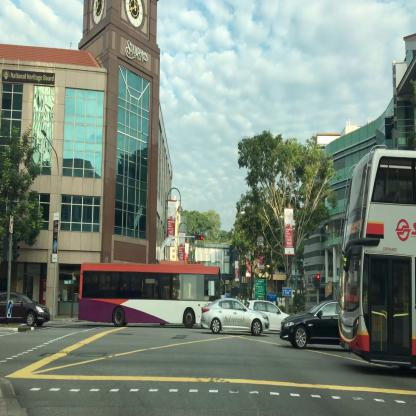red_traffic_light: (316, 274, 320, 288), (195, 234, 203, 239)
